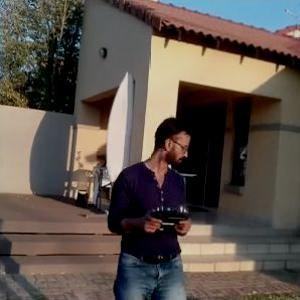follow: (104, 111, 203, 299)
